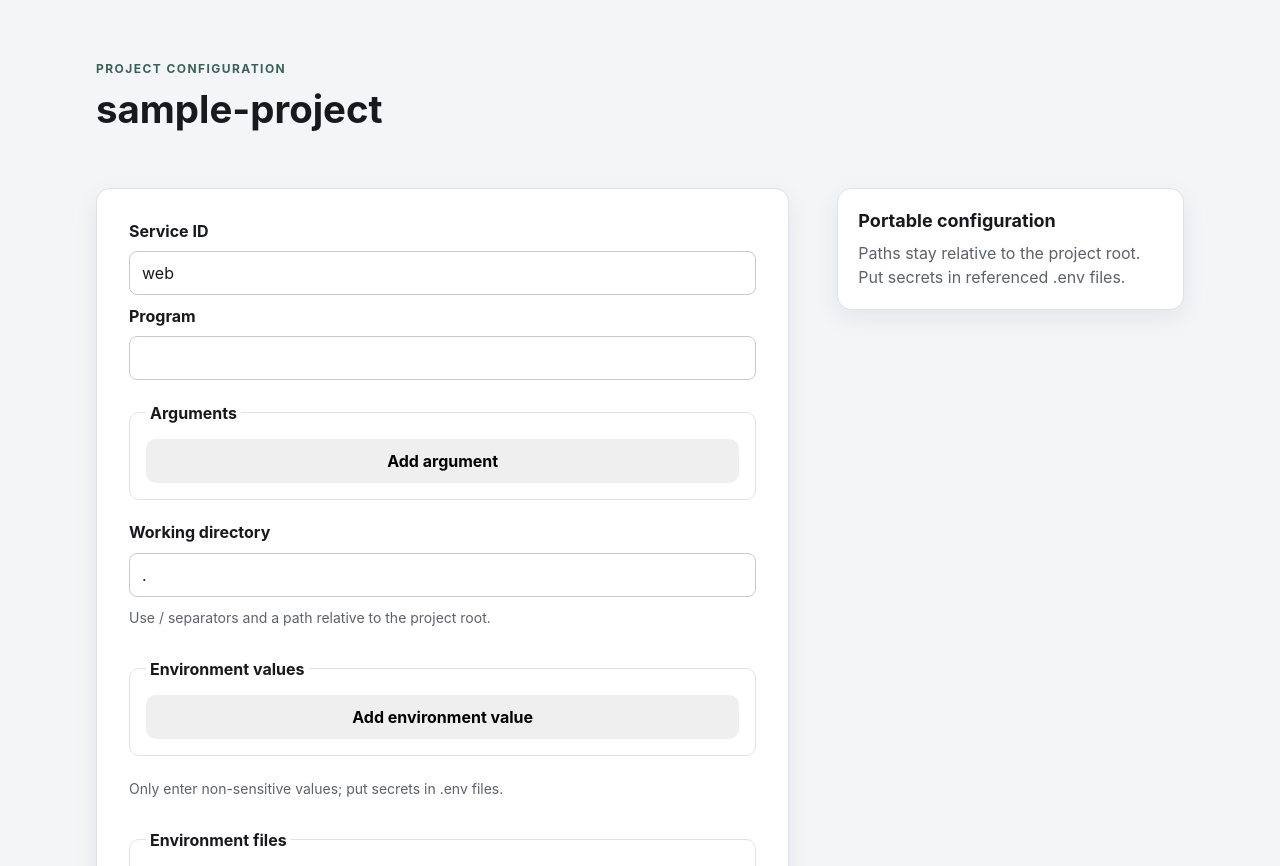
Test: ignores a stale preview response after the draft changes
Type "pnpm" into the field labelled "Program" at (443,358), box top-left (129, 336), bottom-right (756, 380)
(page scrolled)
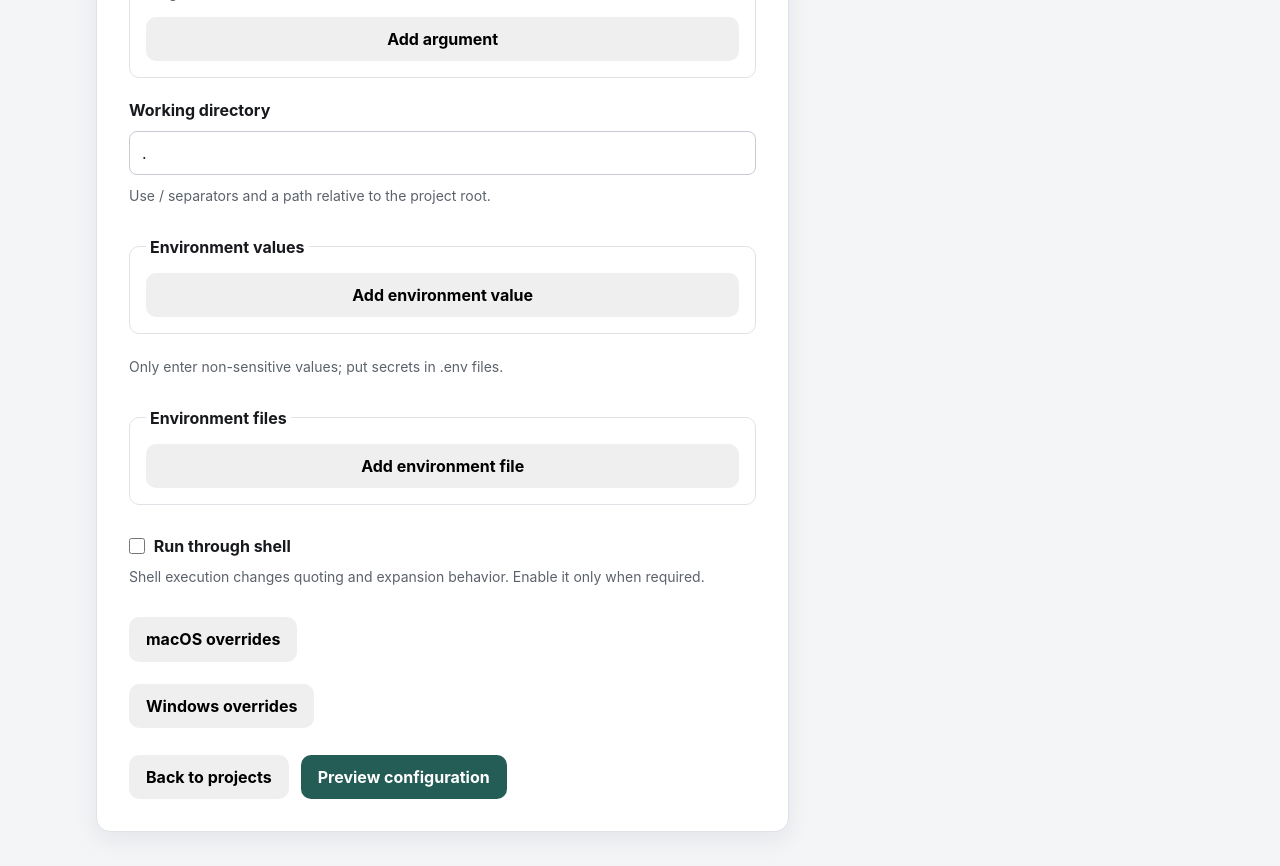
Click the button "Preview configuration" at (404,777), box top-left (301, 755), bottom-right (507, 799)
(page scrolled)
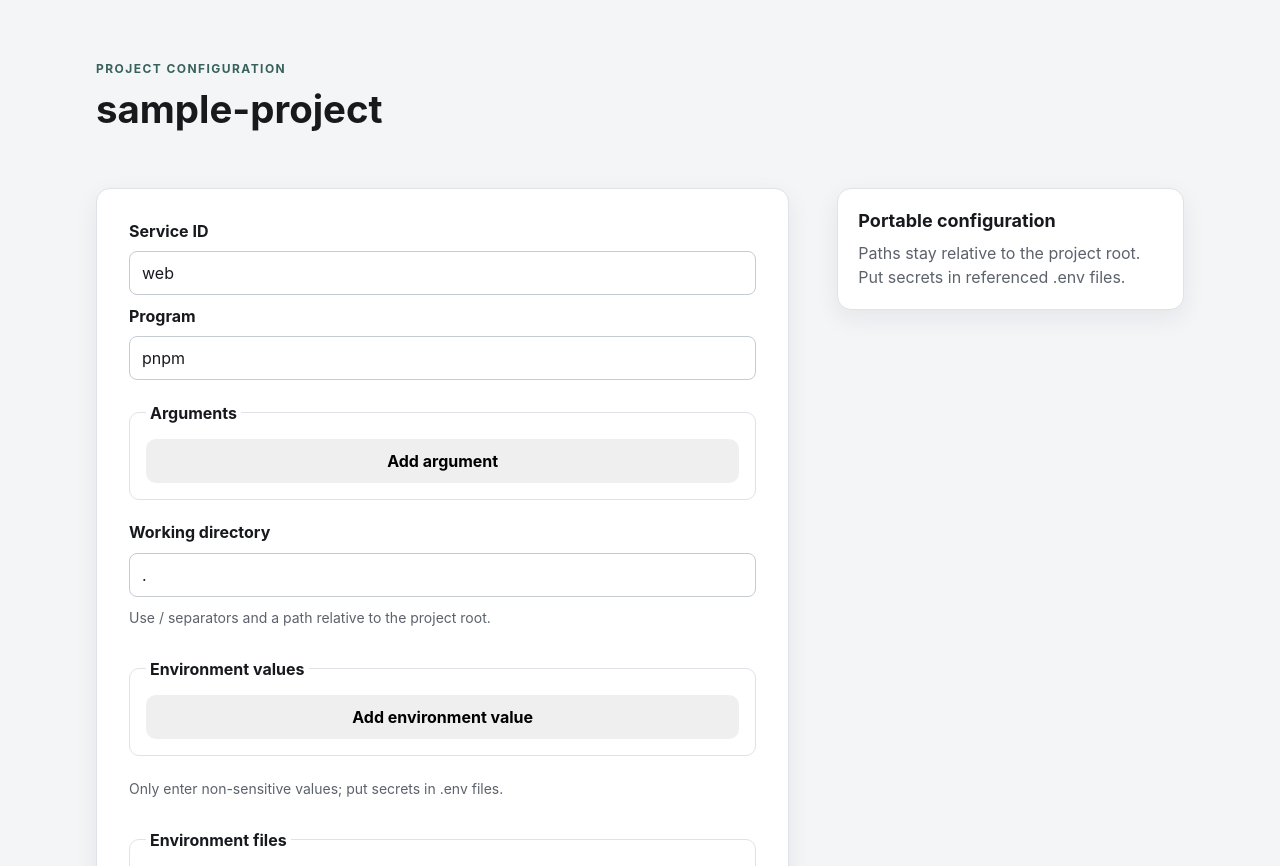
Replace the text in the field labelled "Program" with "npm" at (443,358), box top-left (129, 336), bottom-right (756, 380)
(page scrolled)
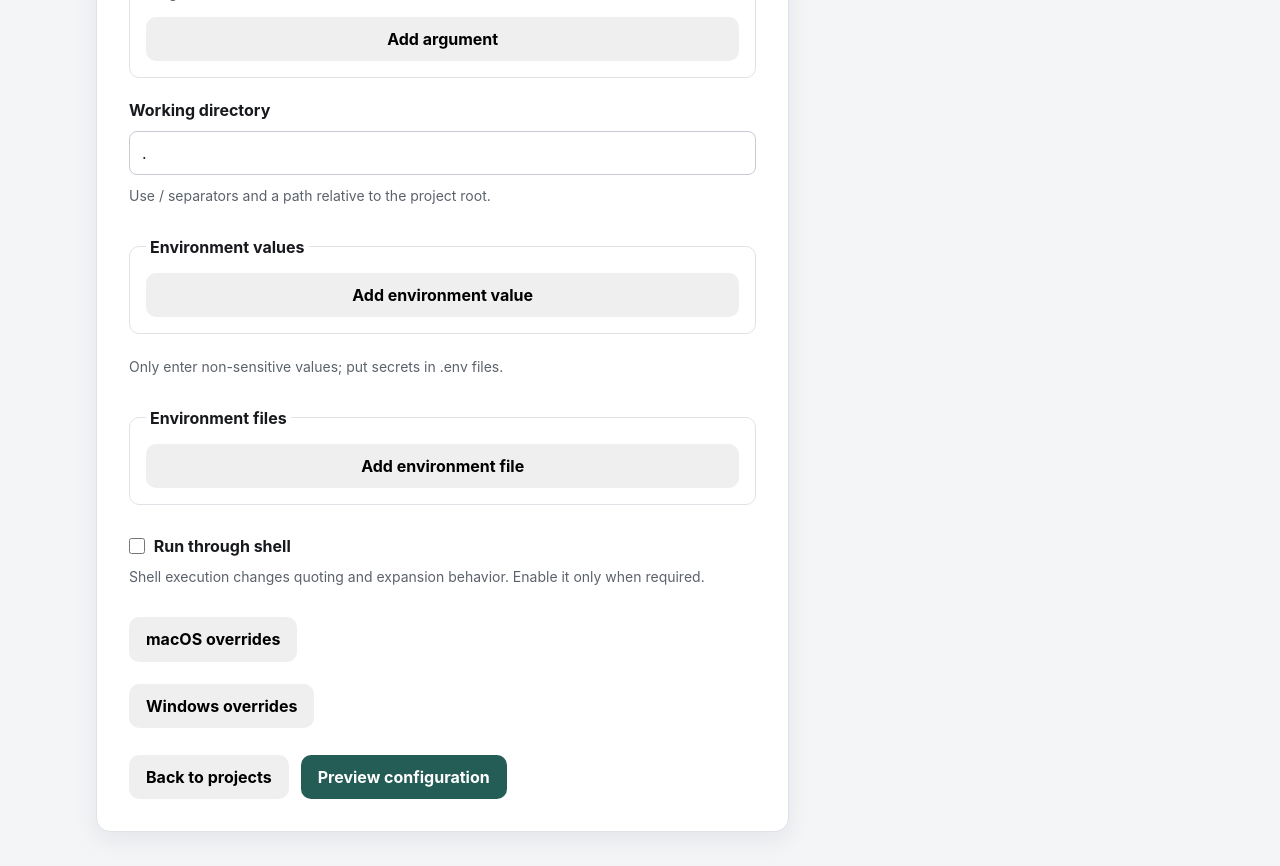
Click the button "Preview configuration" at (404,777), box top-left (301, 755), bottom-right (507, 799)
(page scrolled)
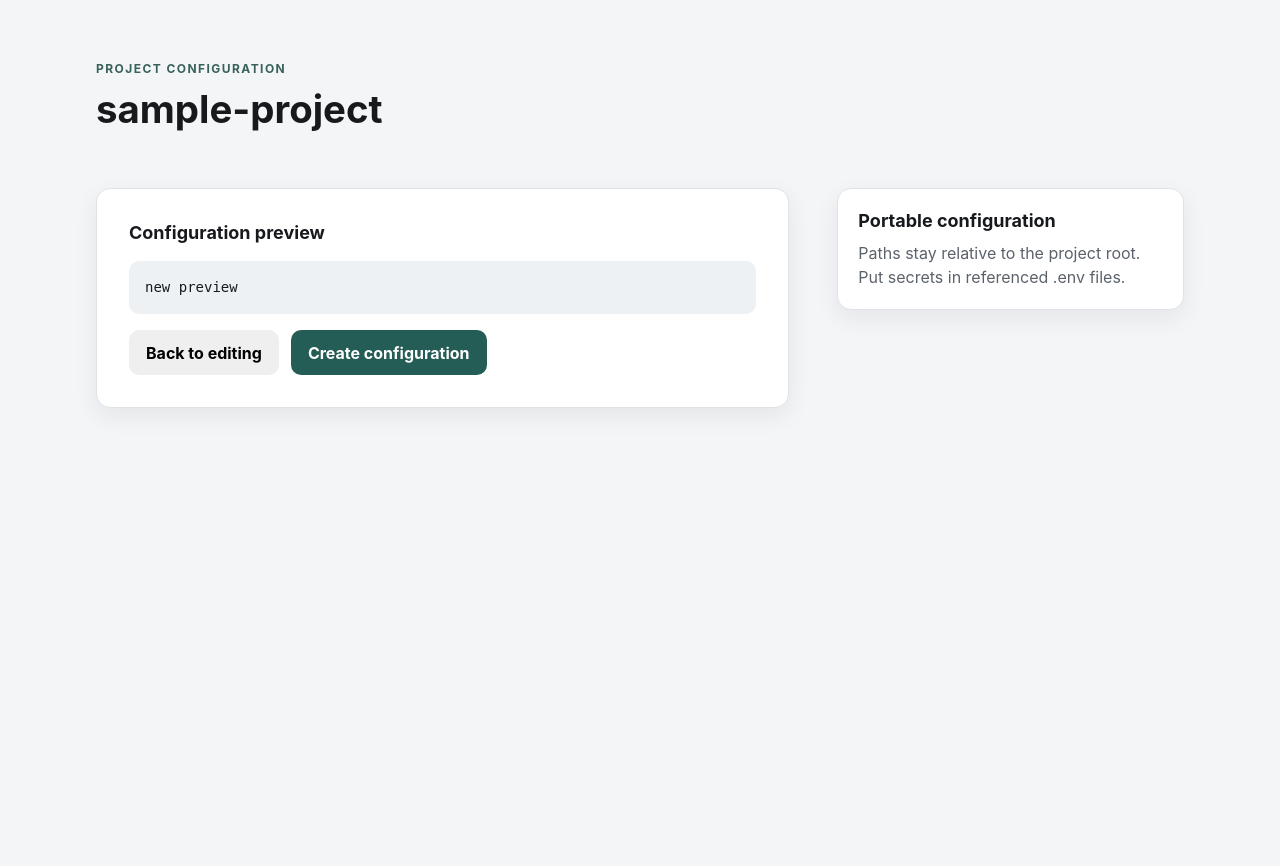
Expected: the text "new preview" is shown, top-left (129, 261), bottom-right (756, 314)
